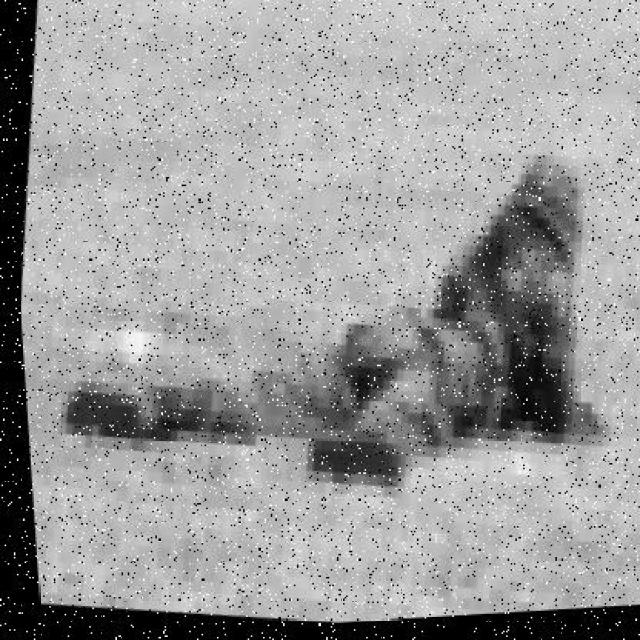MIL_Pax: (47, 48, 631, 537)
